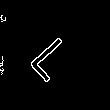L_NE: (26, 26, 84, 84)
